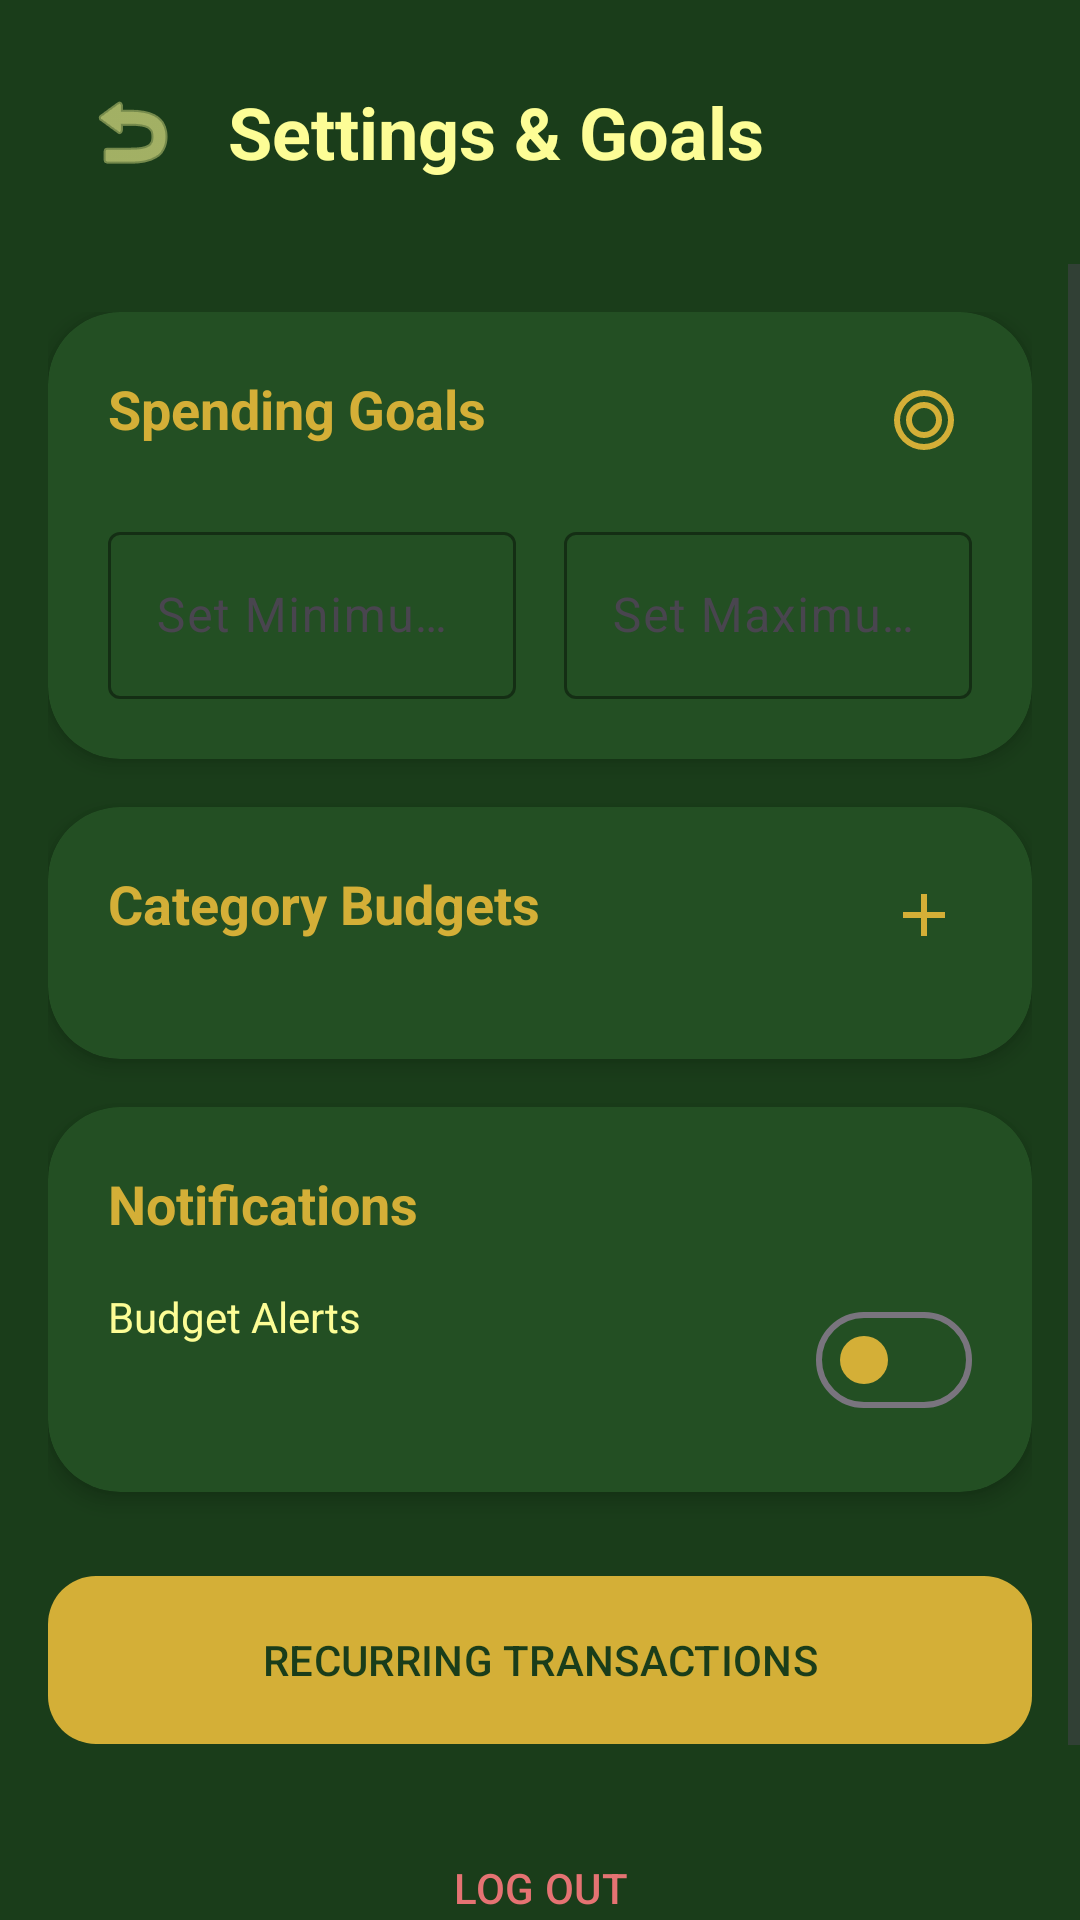

Screen size 1080*1920. Icon name, then its center in pixels as (x=x, y=y):
add: (x=924, y=915)
revert: (x=133, y=132)
target: (x=924, y=420)
